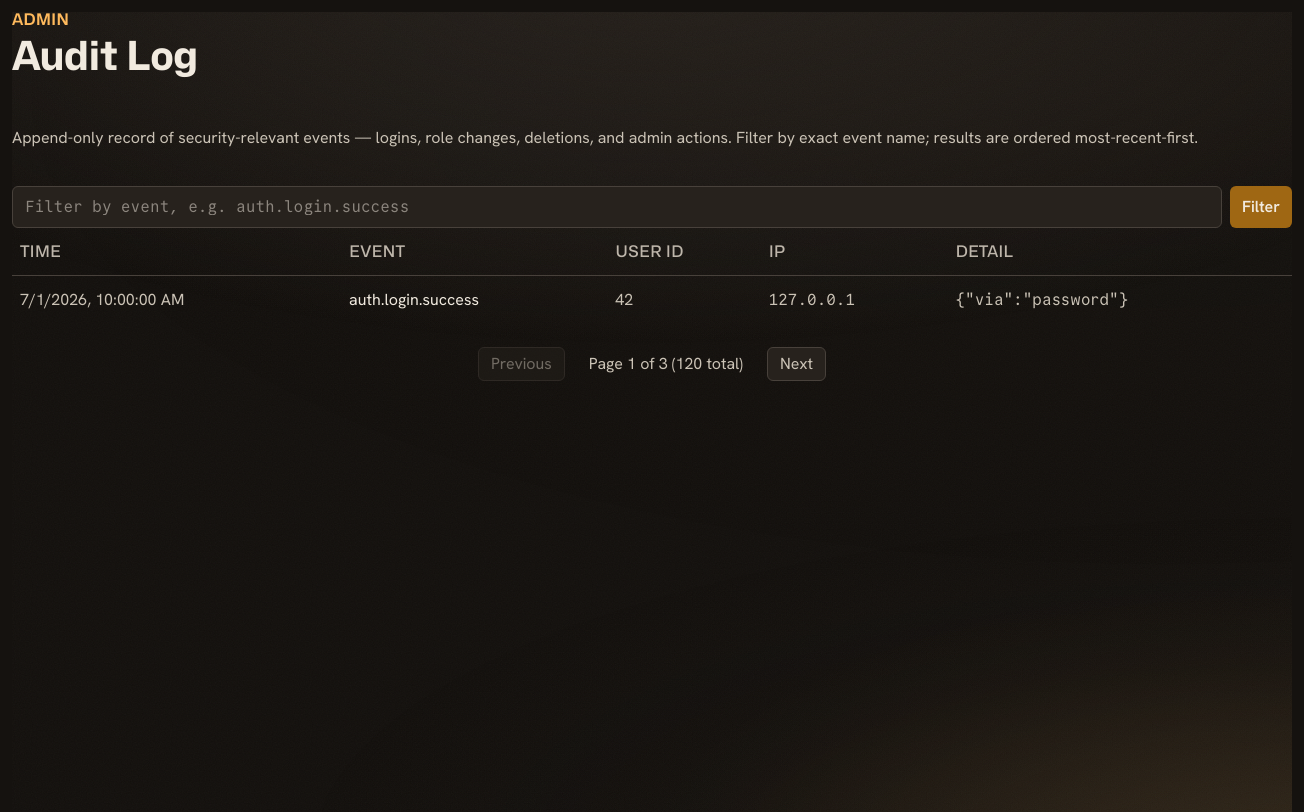
Test case: AdminAuditLog › Clear resets the filter
Type "auth.login.success" into the field with test id "audit-log-event-filter" at (617, 207), box [12,186,1222,228]
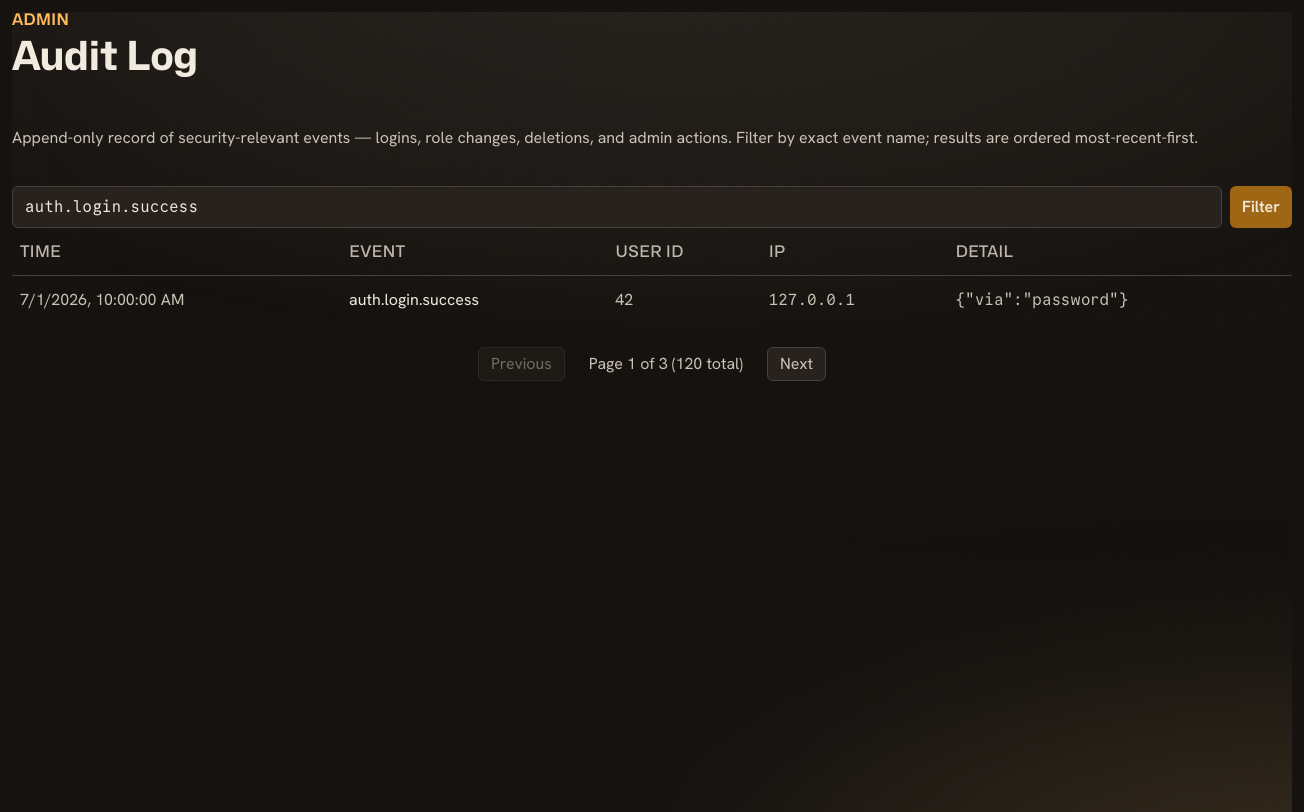
Submit the form with test id "audit-log-filter-btn", box [12,186,1292,228]
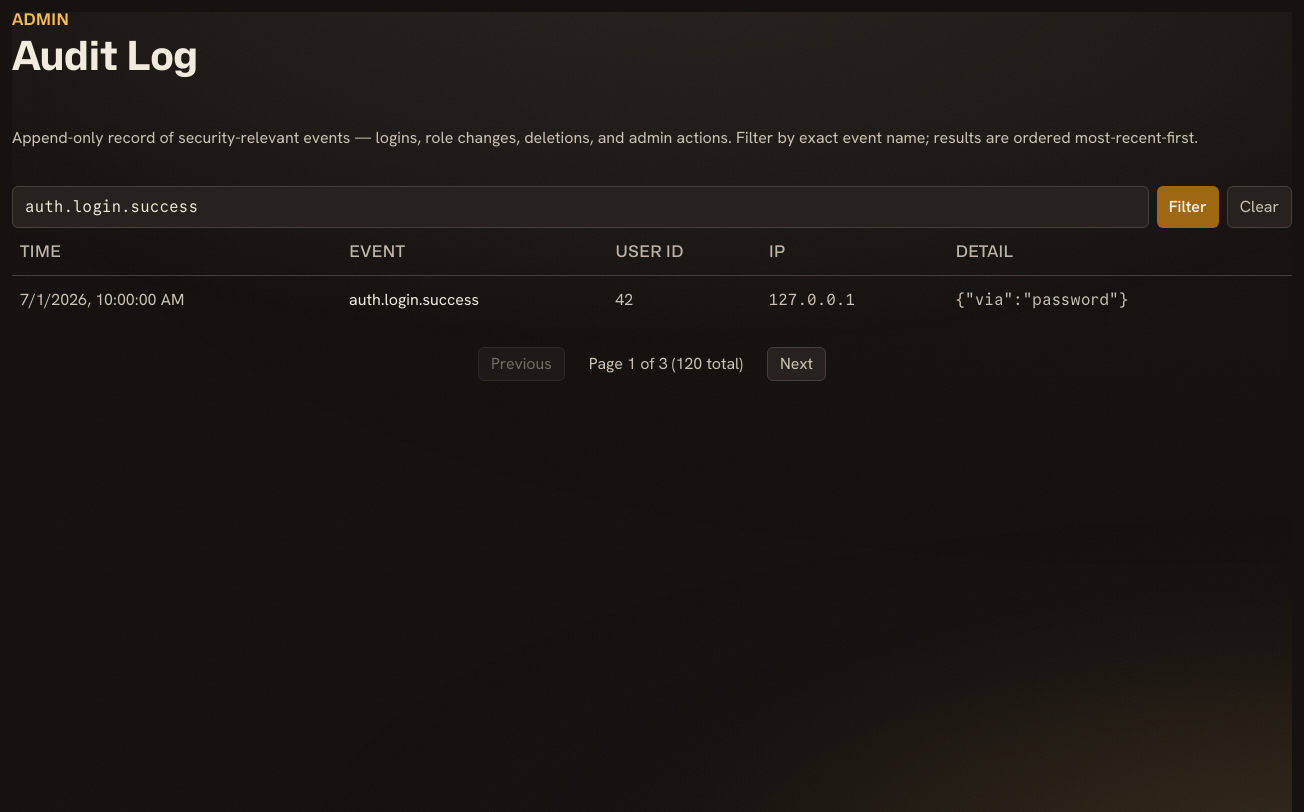
Click the button with test id "audit-log-clear-btn" at (1259, 207), box [1227,186,1292,228]
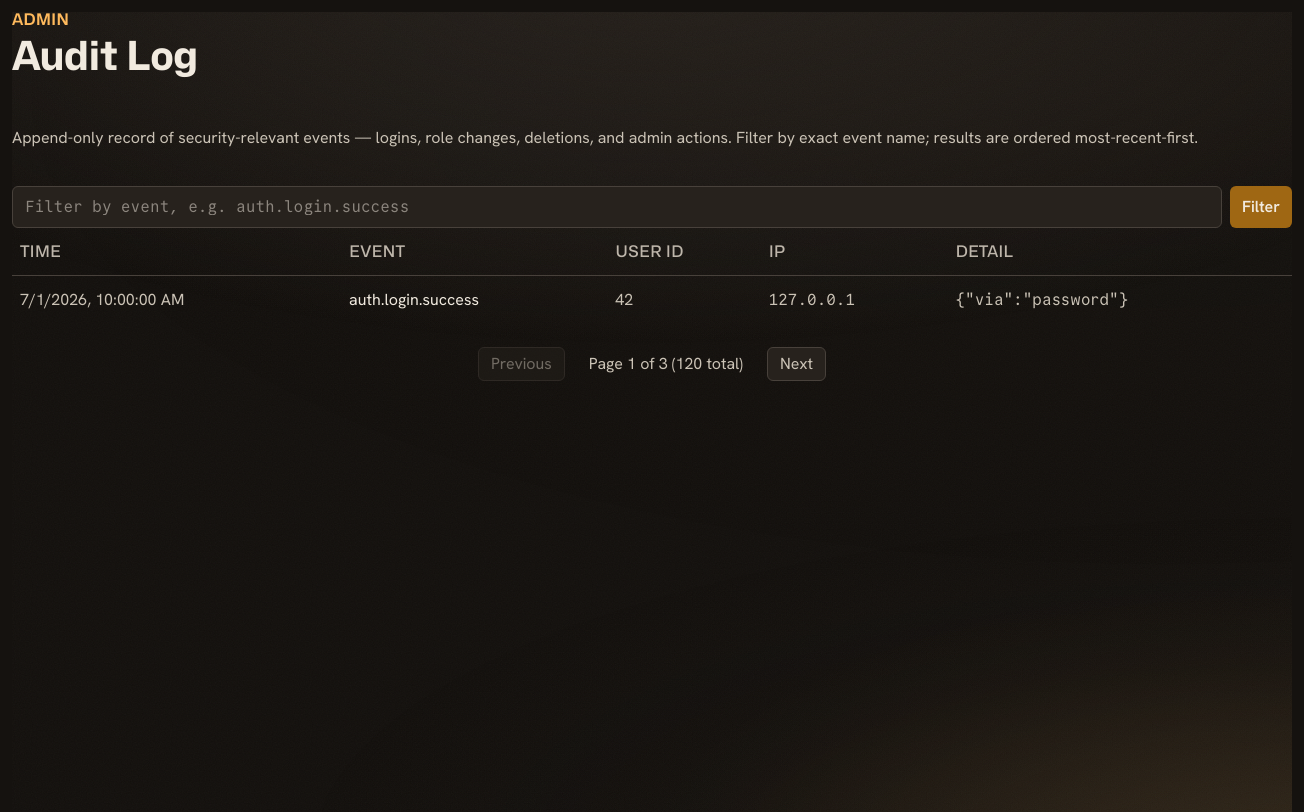
expect the field with test id "audit-log-event-filter" is empty: met, box [12,186,1222,228]
expect the button with test id "audit-log-clear-btn" is gone: met
